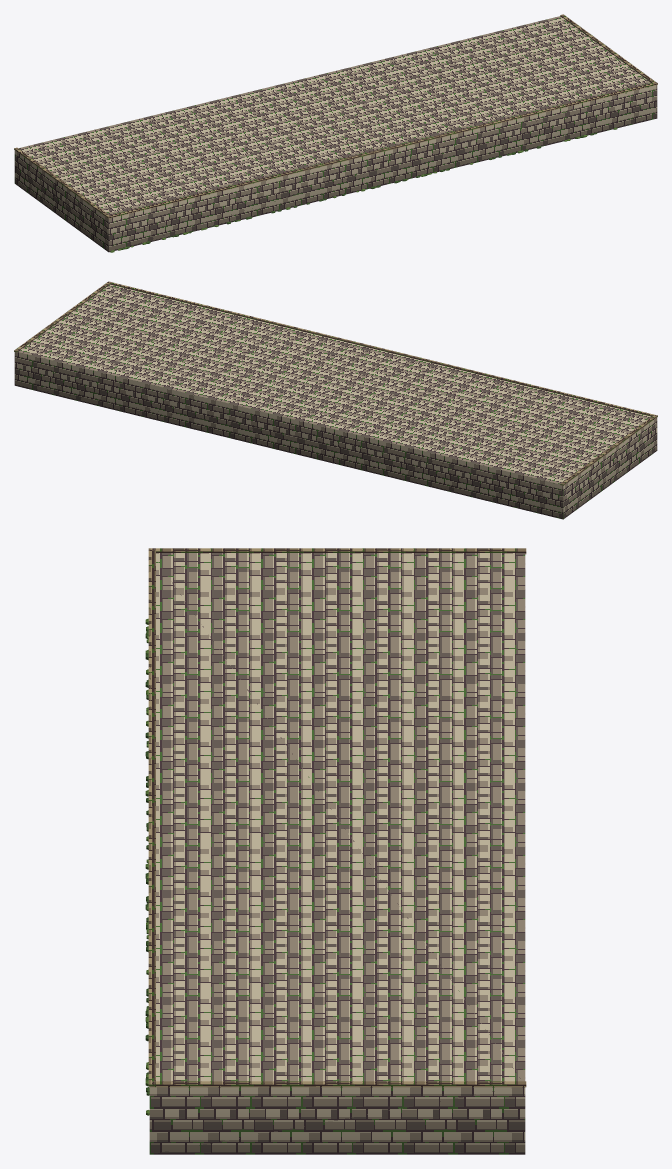
The model's file is scene_wall_n.glb.
3 renders of one model, top to bottom at view 1: azimuth 30°, elevation 25°; view 2: azimuth 150°, elevation 25°; view 3: azimuth 270°, elevation 25°, orthographic. The views are drawn at different scales.
Visible parts, largest first — view 1: scene_wall_n; view 2: scene_wall_n; view 3: scene_wall_n.
Part boxes in pixels (bbox=[...]): scene_wall_n: bbox=[14, 14, 657, 252]; scene_wall_n: bbox=[14, 281, 657, 519]; scene_wall_n: bbox=[145, 548, 526, 1154].
Bounding box in the file's own units: 60.1 × 3.77 × 18.04.
Materials: 2 (1 with a texture image).
